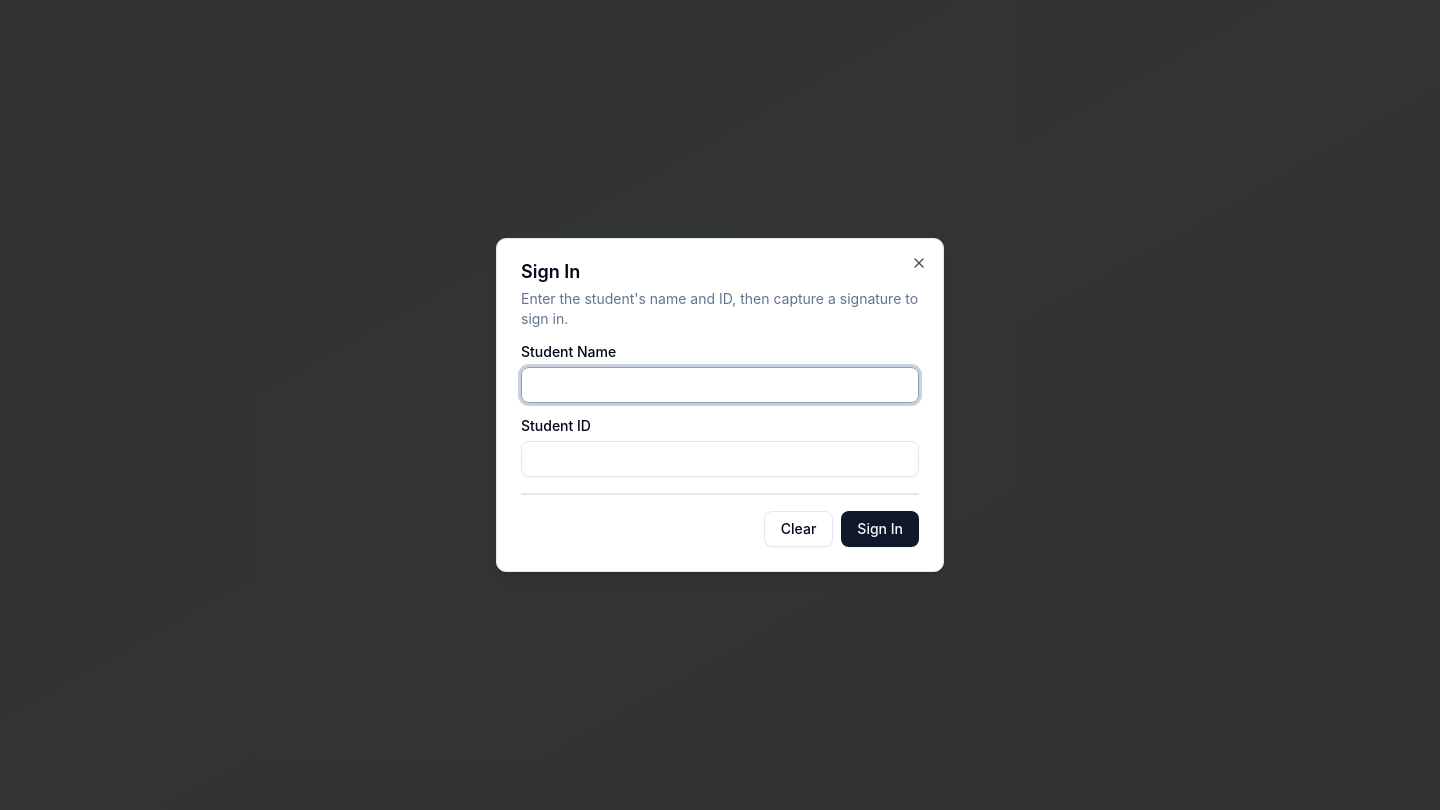
Test: SignInModal › blocks a duplicate student ID
Type "Dup" into the field labelled "Student Name" at {"x": 720, "y": 385}, box [521, 367, 919, 403]
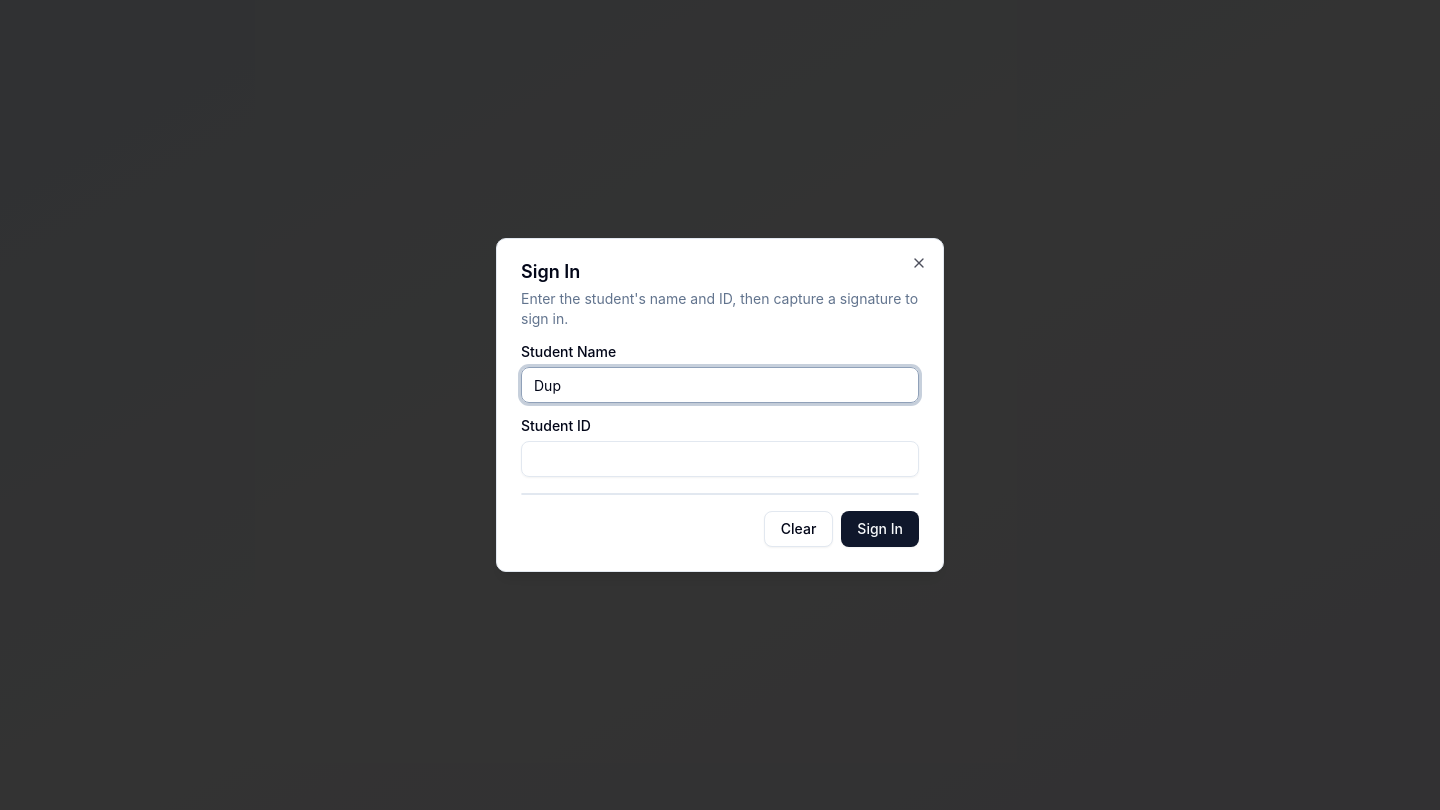
Type "42" into the field labelled "Student ID" at {"x": 720, "y": 459}, box [521, 441, 919, 477]
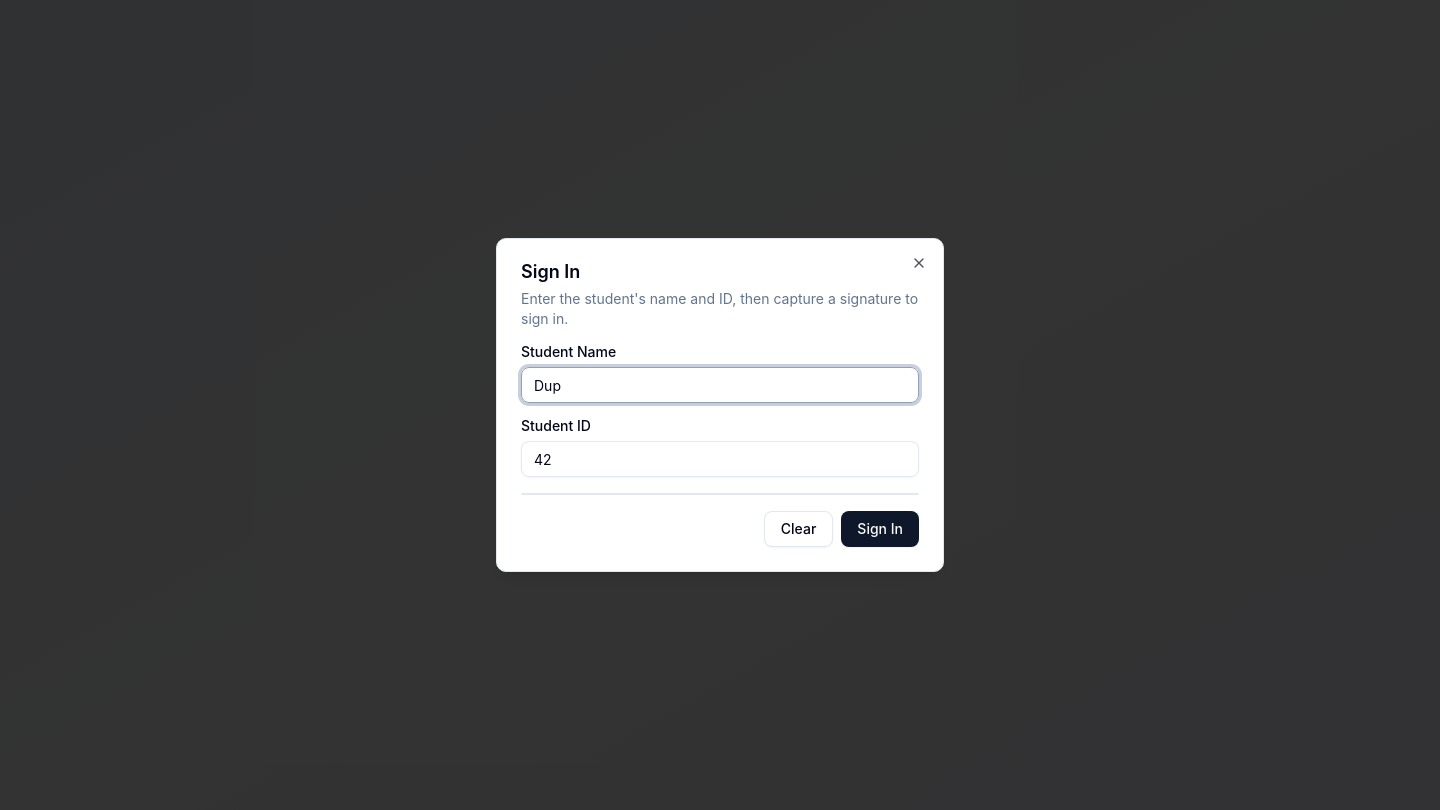
Click the button "Sign In" at {"x": 880, "y": 529}, box [841, 511, 919, 547]
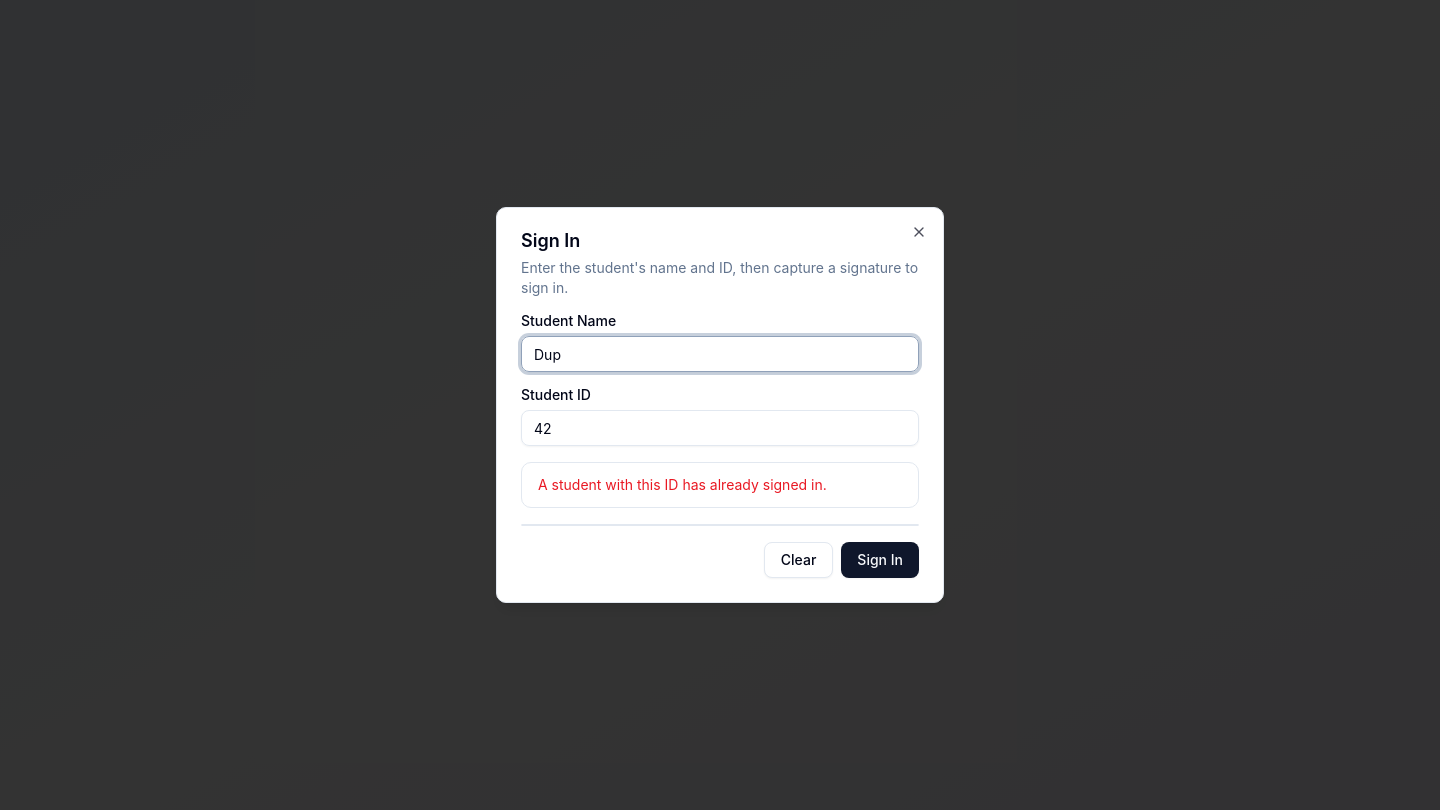
expect the text "A student with this ID has already signed in." is shown: met, box [538, 476, 827, 493]
